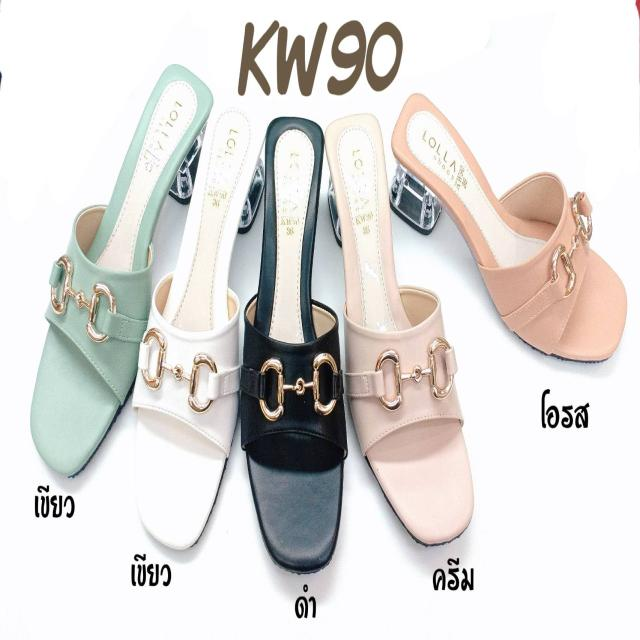black: (244, 112, 344, 581)
cream: (324, 114, 472, 544)
green: (32, 61, 210, 481)
orot: (392, 88, 626, 364)
white: (137, 94, 261, 548)
